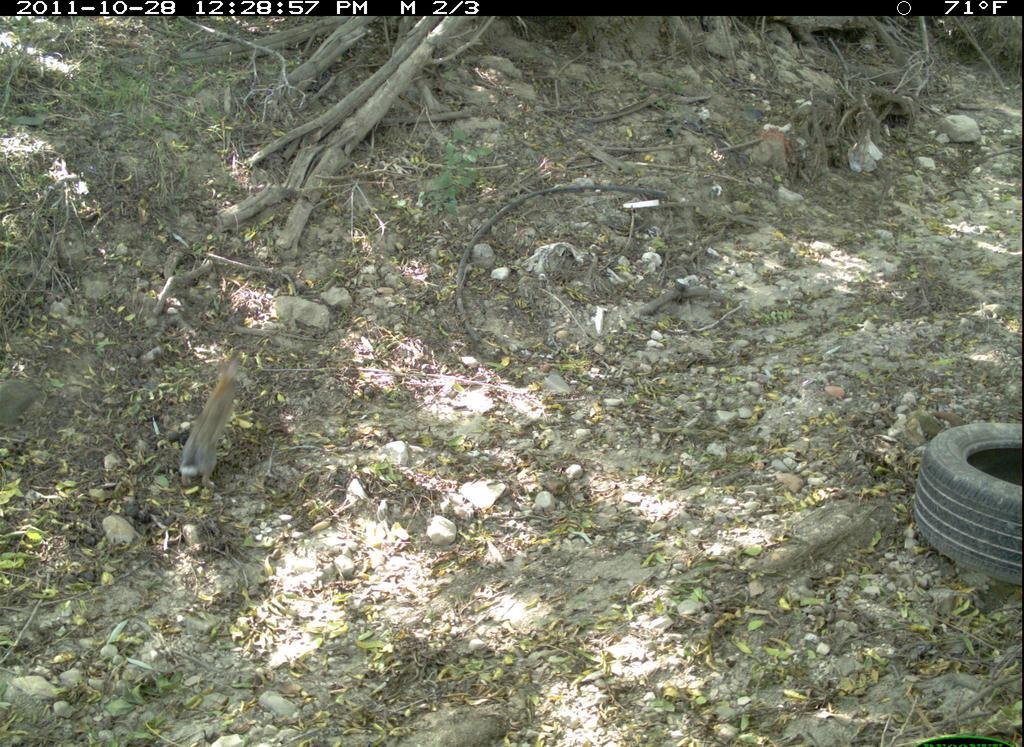rabbit: (163, 349, 269, 511)
